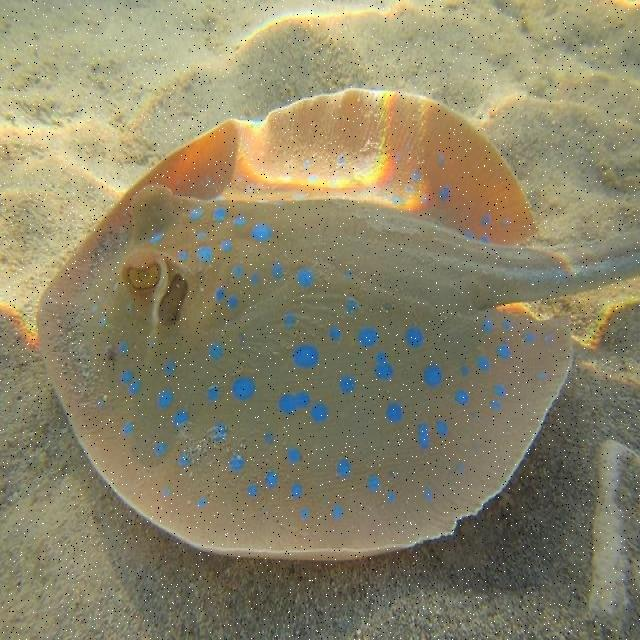fish: (36, 91, 639, 560)
